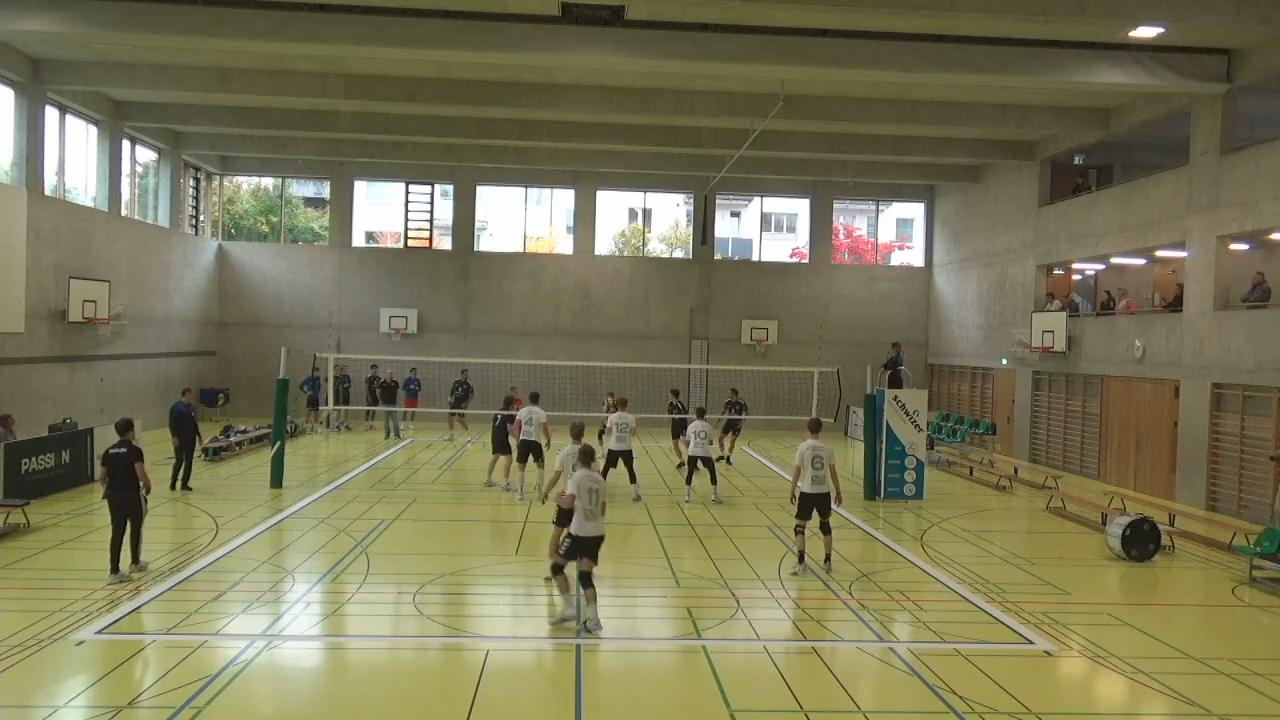Player: (552, 423, 614, 633), (537, 422, 588, 612), (789, 416, 838, 572), (598, 395, 642, 494), (681, 405, 723, 505), (512, 391, 550, 501), (485, 392, 518, 493), (720, 387, 748, 467), (663, 385, 686, 467), (449, 369, 473, 445), (501, 382, 523, 414)
Receive: (595, 387, 619, 447)
ball: (603, 393, 617, 409)
